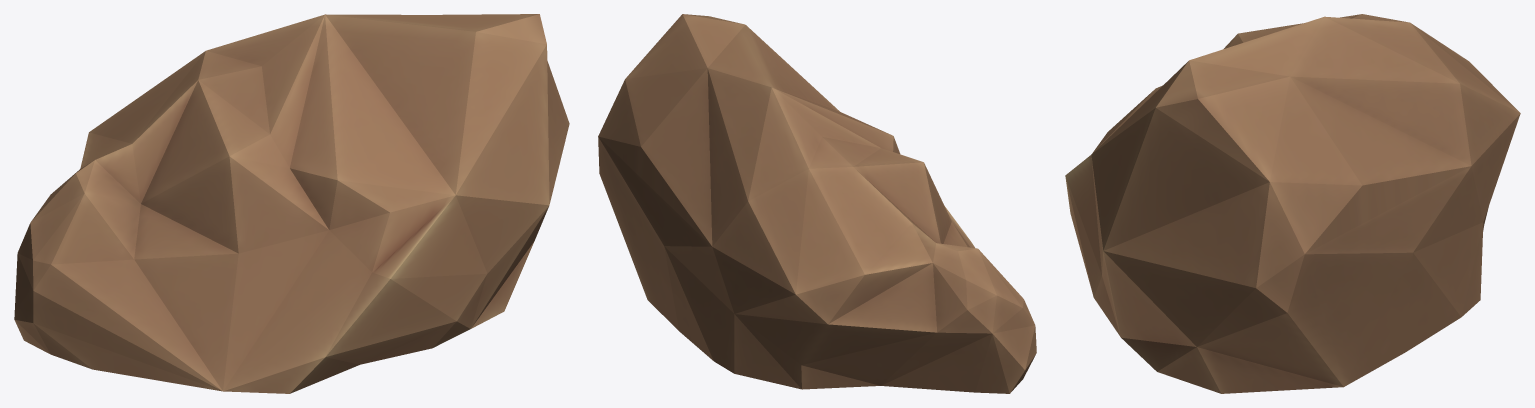
File: Rock_38.fbx
The picture shows the model from 3 angles, left to right: view 1: azimuth 30°, elevation 25°; view 2: azimuth 150°, elevation 25°; view 3: azimuth 270°, elevation 25°; orthographic projection. The views are drawn at different scales.
Parts seen in each view (by area): view 1: Rock_38; view 2: Rock_38; view 3: Rock_38.
Part boxes in pixels (box(x1,y1,x2,y2)): Rock_38: box(14, 14, 569, 393); Rock_38: box(598, 14, 1036, 393); Rock_38: box(1065, 14, 1520, 393).
Bounding box in the file's own units: 53.17 × 26.97 × 36.62.
